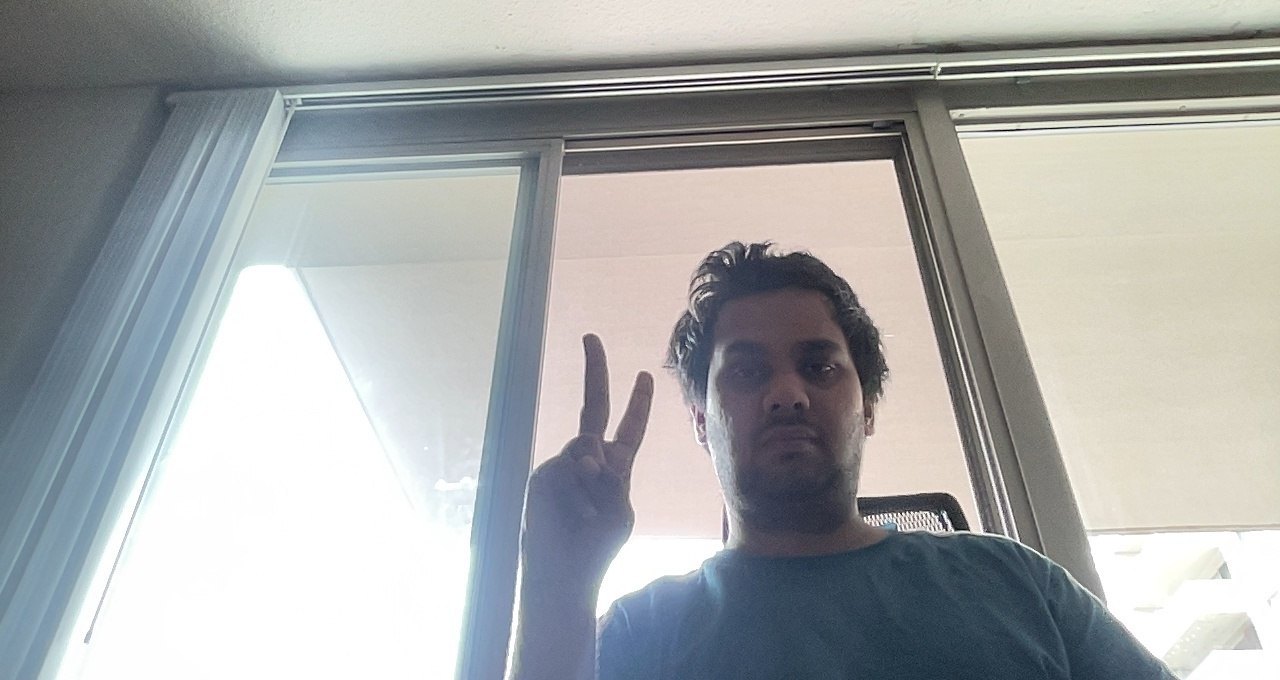peace sign: (542, 327, 664, 564)
